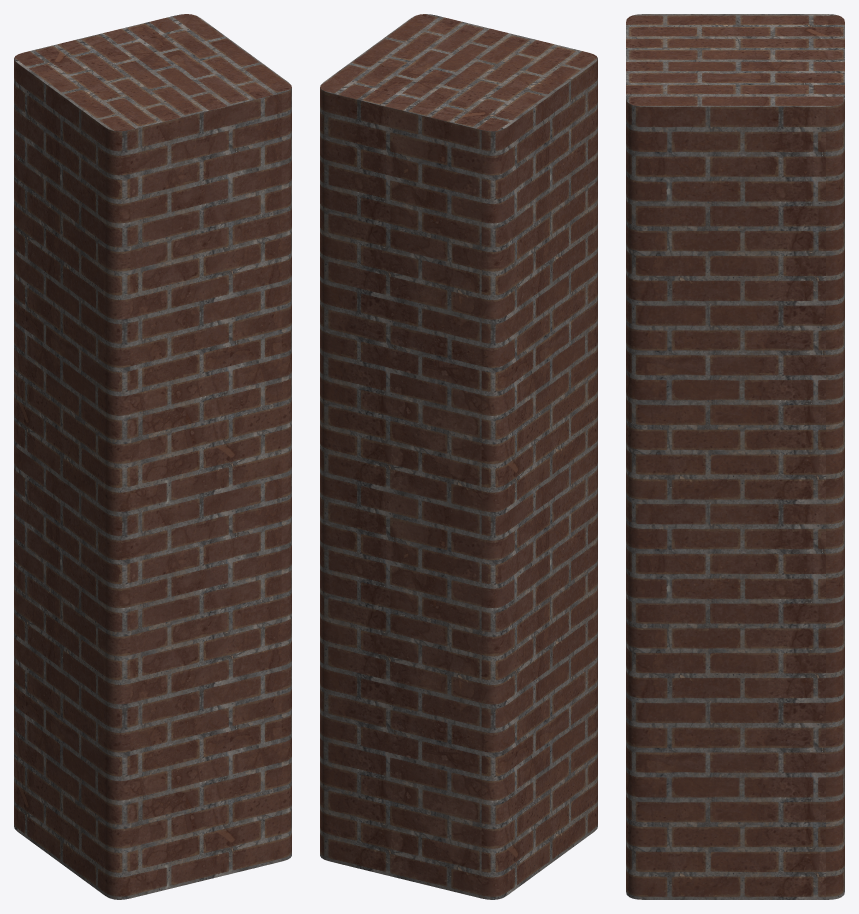
Rendered from SM_BrickPillar4m.FBX.
The picture shows the model from 3 angles, left to right: view 1: azimuth 30°, elevation 25°; view 2: azimuth 150°, elevation 25°; view 3: azimuth 270°, elevation 25°; orthographic projection. The views are drawn at different scales.
Visible parts, largest first — view 1: SM_BrickPillar4m; view 2: SM_BrickPillar4m; view 3: SM_BrickPillar4m.
Boxes of the visible parts, <box> form: SM_BrickPillar4m: <box>14,14,291,899</box>; SM_BrickPillar4m: <box>320,14,597,899</box>; SM_BrickPillar4m: <box>626,14,844,899</box>.
Size of the model in its own units: 100 by 100 by 400.
